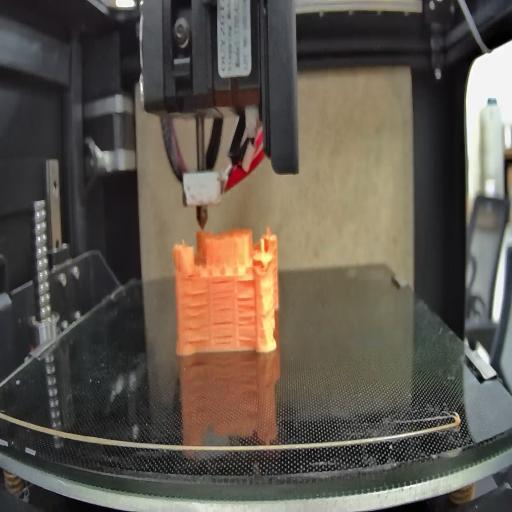cracks: (182, 290, 210, 342), (212, 279, 234, 325), (238, 295, 255, 346), (213, 333, 233, 346), (238, 277, 254, 288)
